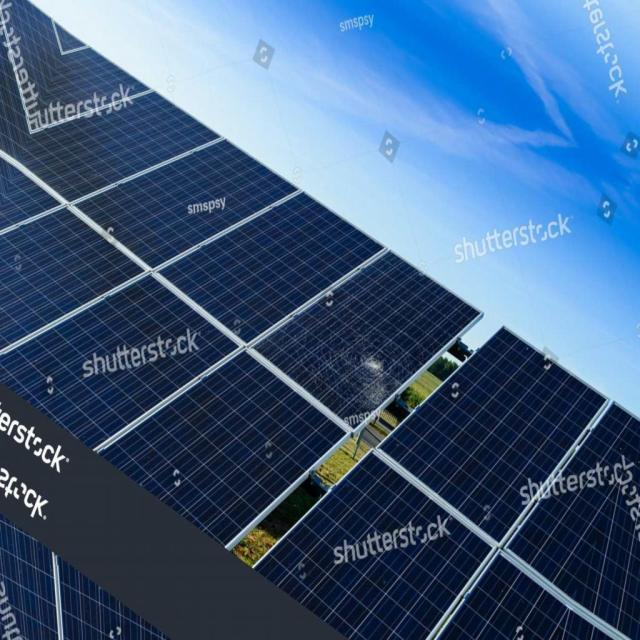cracked: (255, 242, 482, 438)
